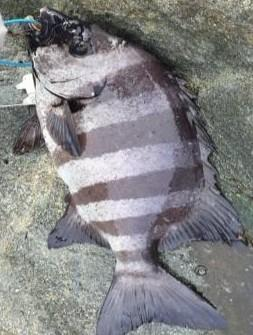fish: (13, 4, 248, 334)
